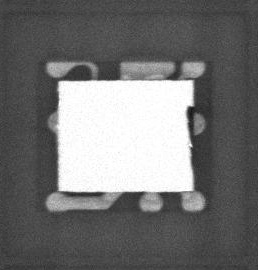DIE_BROKEN: (185, 104, 195, 164)
